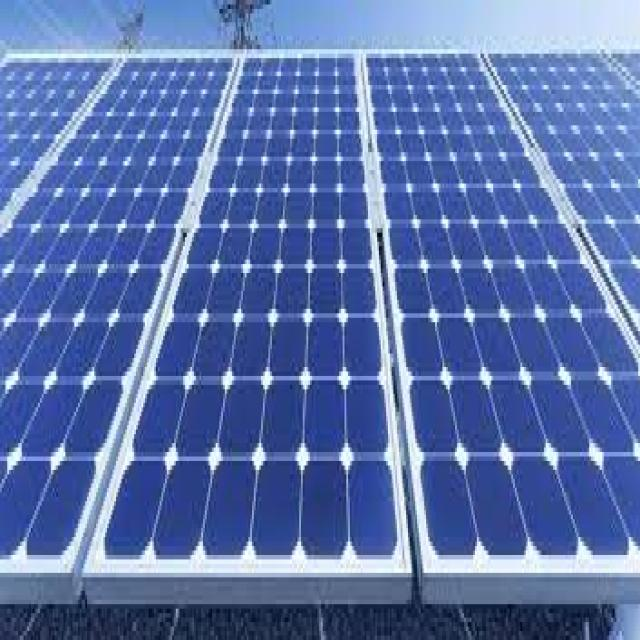clean-solar-panel: (1, 52, 640, 606)
